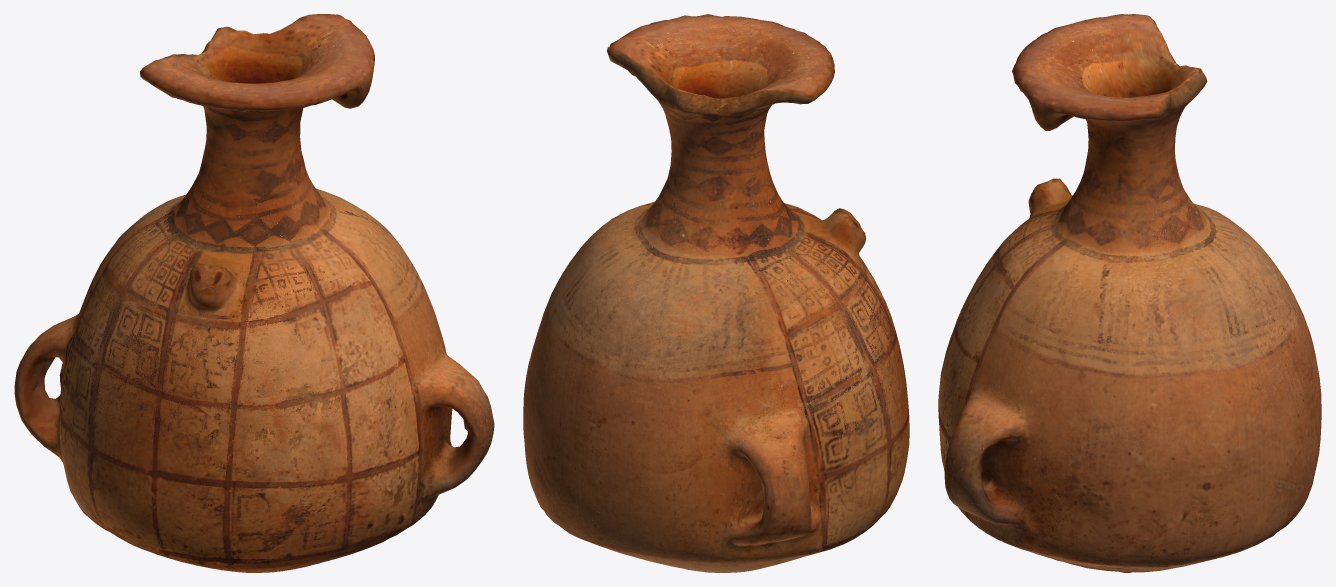
Rendered from bien04.FBX.
The picture shows the model from 3 angles, left to right: view 1: azimuth 30°, elevation 25°; view 2: azimuth 150°, elevation 25°; view 3: azimuth 270°, elevation 25°; orthographic projection. The views are drawn at different scales.
Parts seen in each view (by area): view 1: default; view 2: default; view 3: default.
Part boxes in pixels (x1,y1,x2,y2): default: (14, 14, 494, 572); default: (523, 14, 909, 572); default: (938, 14, 1321, 572).
Size of the model in its own units: 28.15 by 41.05 by 28.03.
